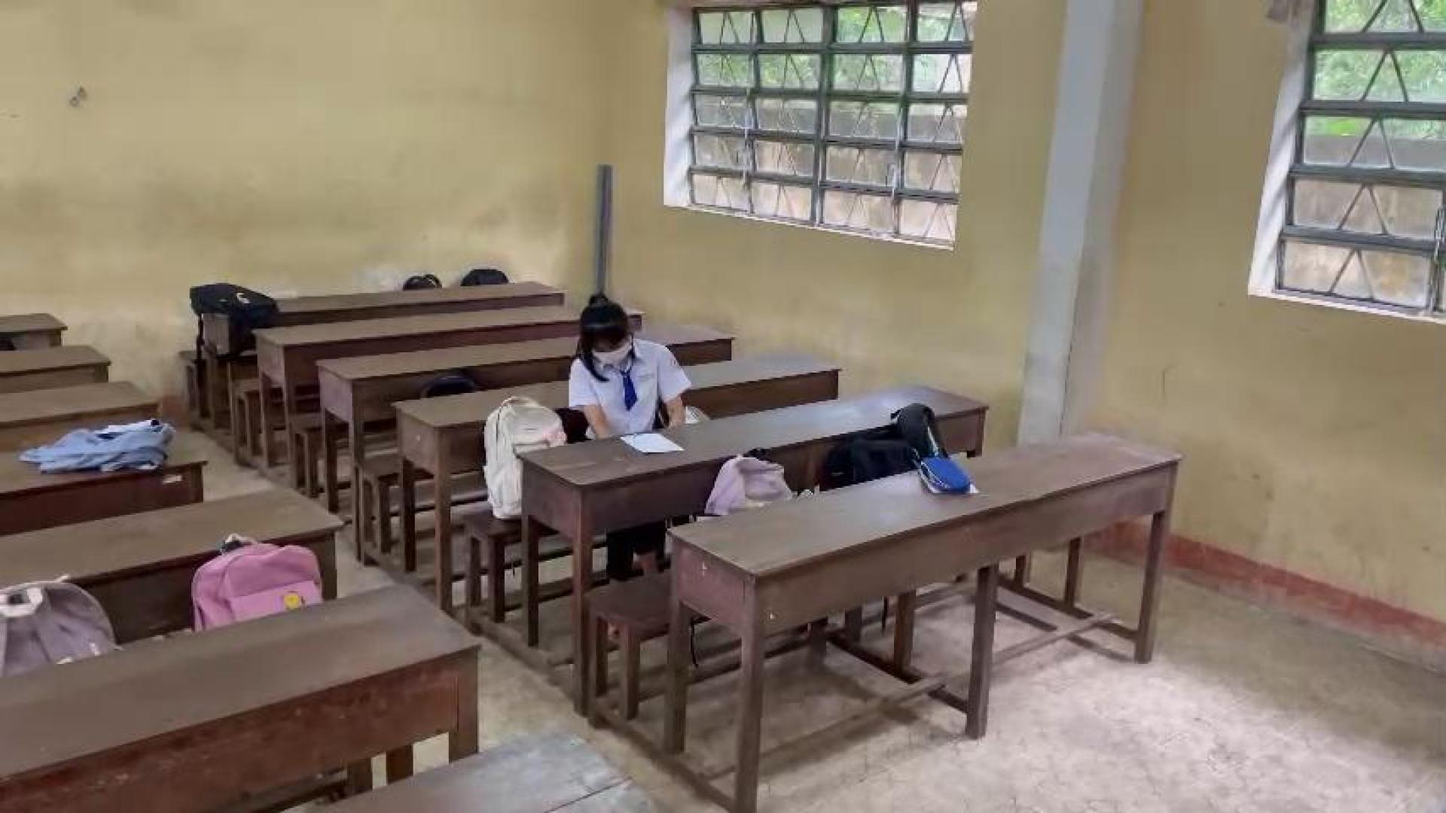Bend Over The Desk: (561, 283, 647, 379)
Hand Under Table: (640, 335, 692, 432), (559, 352, 611, 447)
